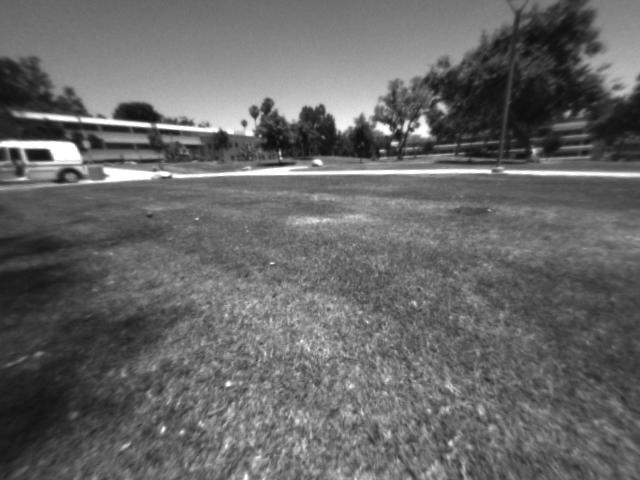dogtoy: (136, 204, 162, 222)
